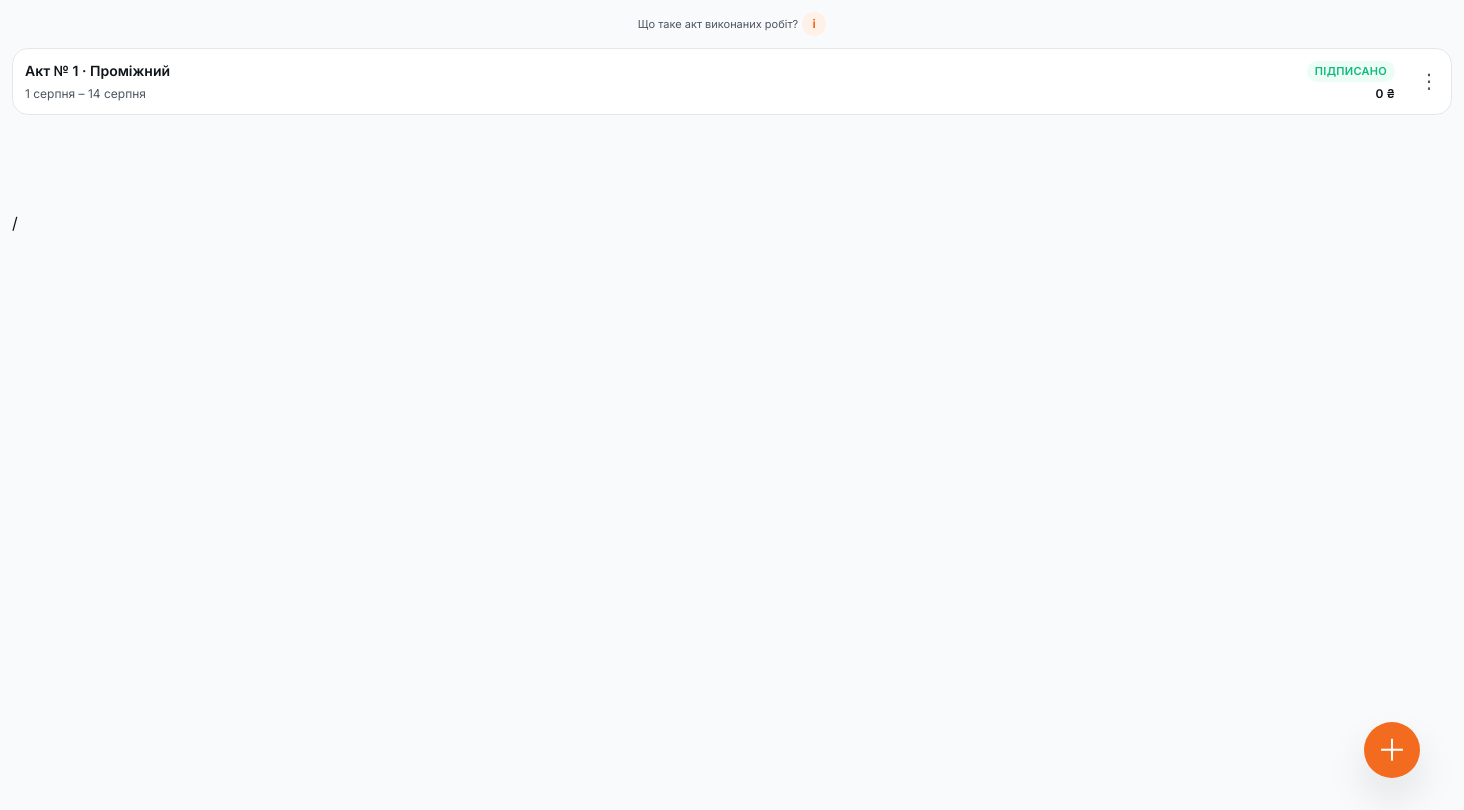
Test: ActsSection › «+ Новий акт» only opens the editor — nothing is created until «Зберегти»
Step 1. Click the button named "+ Новий акт" → {"x": 1392, "y": 750}, box [1364, 722, 1420, 778]
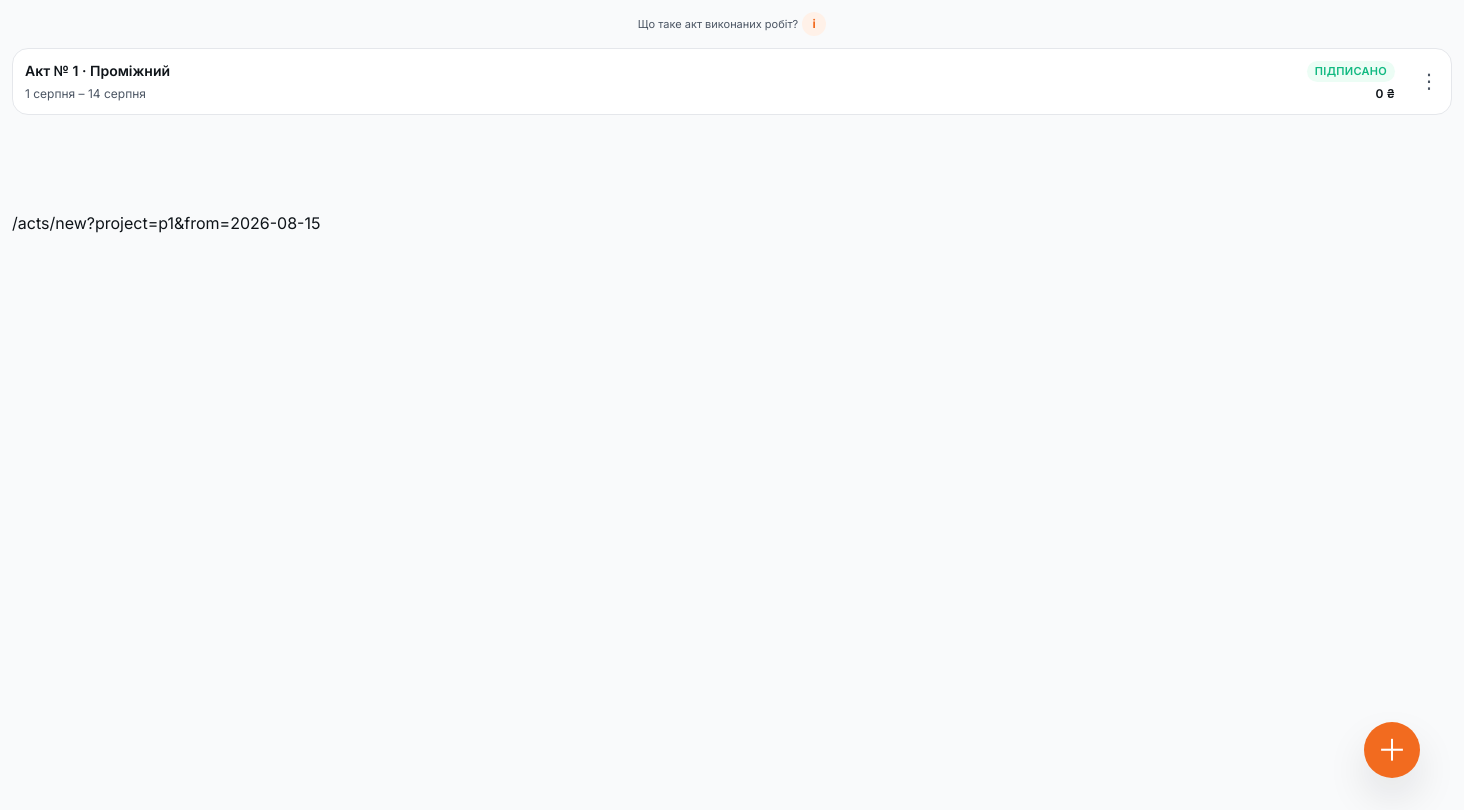
Check: the text with test id "loc" reads "/acts/new?project=p1&from=2026-08-15", box [12, 212, 320, 232]
